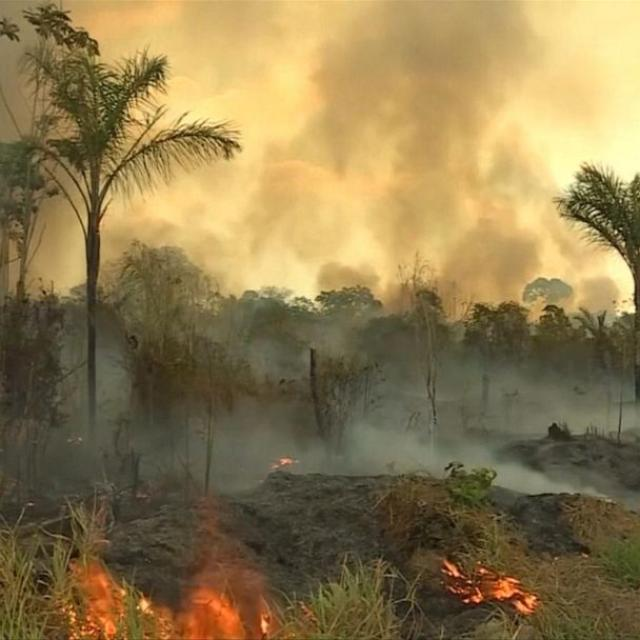Fire: (39, 521, 288, 640), (380, 524, 576, 640)
Smoke: (216, 4, 585, 323), (0, 321, 343, 509), (349, 326, 640, 521)
